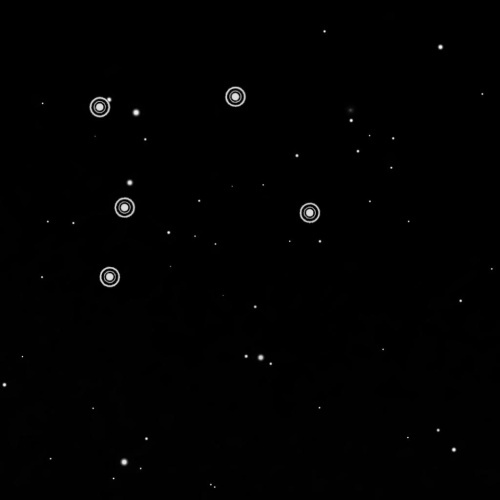libra: (82, 80, 327, 293)
